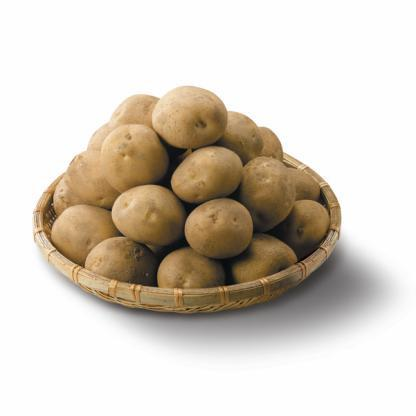potato: (75, 119, 176, 202), (177, 189, 271, 267), (113, 168, 190, 246), (85, 229, 166, 297), (148, 82, 231, 148), (148, 238, 230, 303), (237, 154, 304, 232), (165, 140, 246, 200), (221, 224, 302, 282), (274, 198, 342, 252)
